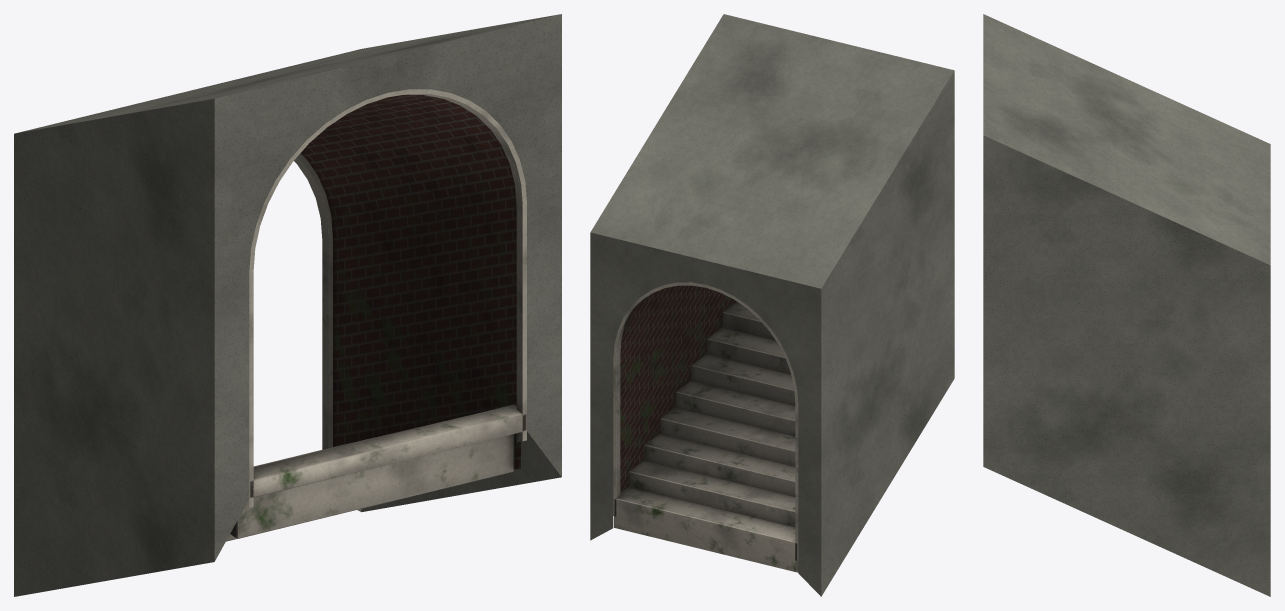
File: TunnelSteps.fbx
3 views of the same model, side by side, from view 1: azimuth 30°, elevation 25°; view 2: azimuth 150°, elevation 25°; view 3: azimuth 270°, elevation 25° (orthographic). The views are drawn at different scales.
Visible parts, largest first — view 1: TunnelSteps_Wall, TunnelSteps_Main; view 2: TunnelSteps_Wall, TunnelSteps_Main; view 3: TunnelSteps_Wall.
Part boxes in pixels (bbox=[...]): TunnelSteps_Wall: bbox=[14, 14, 561, 596]; TunnelSteps_Main: bbox=[226, 89, 526, 541]; TunnelSteps_Wall: bbox=[590, 14, 954, 596]; TunnelSteps_Main: bbox=[613, 282, 798, 572]; TunnelSteps_Wall: bbox=[983, 14, 1270, 596].
Size of the model in its own units: 800 by 1420 by 800.
